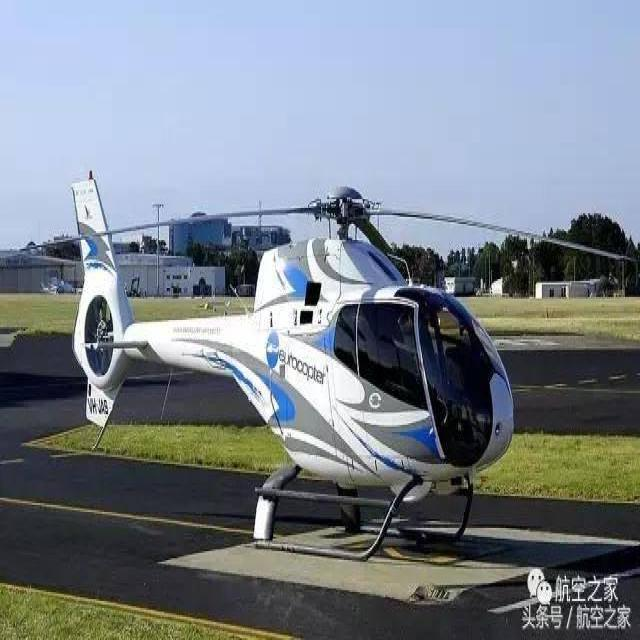MIL_HELO: (26, 150, 586, 576)
